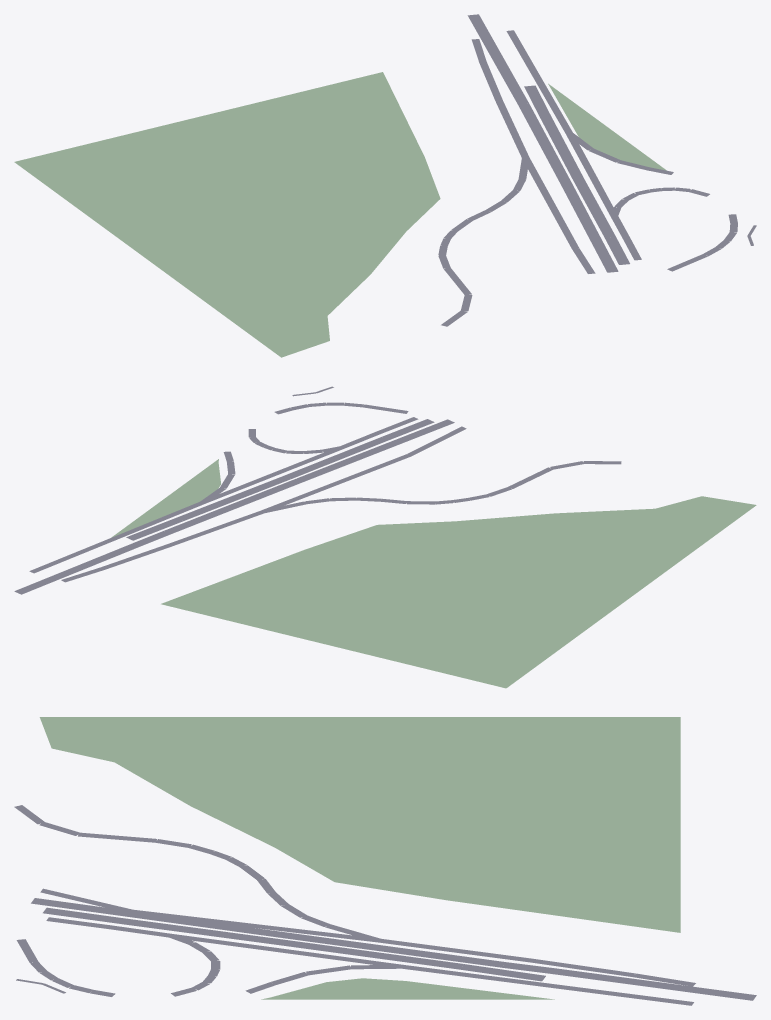
File: 94_103_mid.glb
3 views of the same model, one above another, from view 1: azimuth 30°, elevation 25°; view 2: azimuth 150°, elevation 25°; view 3: azimuth 270°, elevation 25° (orthographic). The views are drawn at different scales.
Size of the model in its own units: 524 by 7.81 by 557.
